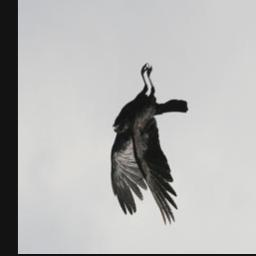Crow: (110, 60, 189, 227)
